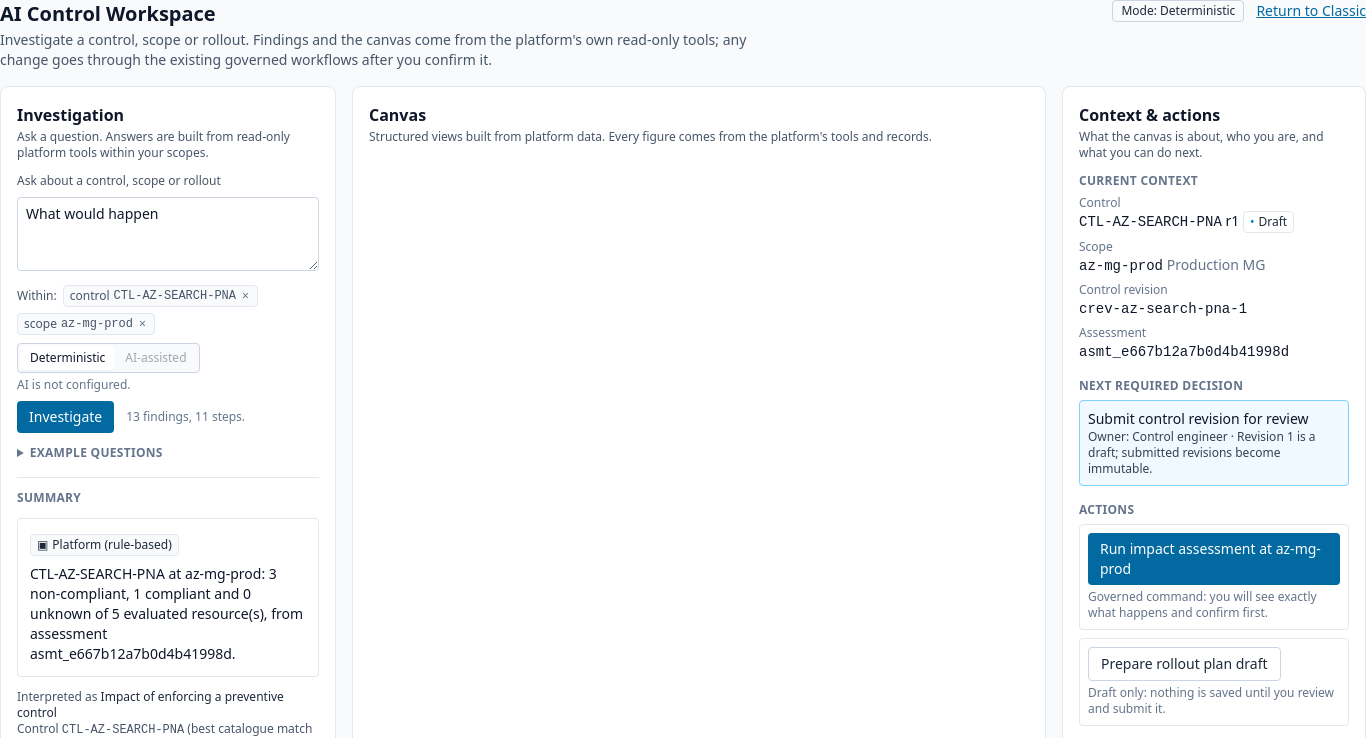
Test: workspace page › asks before running an assessment through the existing endpoint, then refreshes
Click the button with test id "ws-action-run_assessment" at (1214, 559), box [1088,533,1340,585]
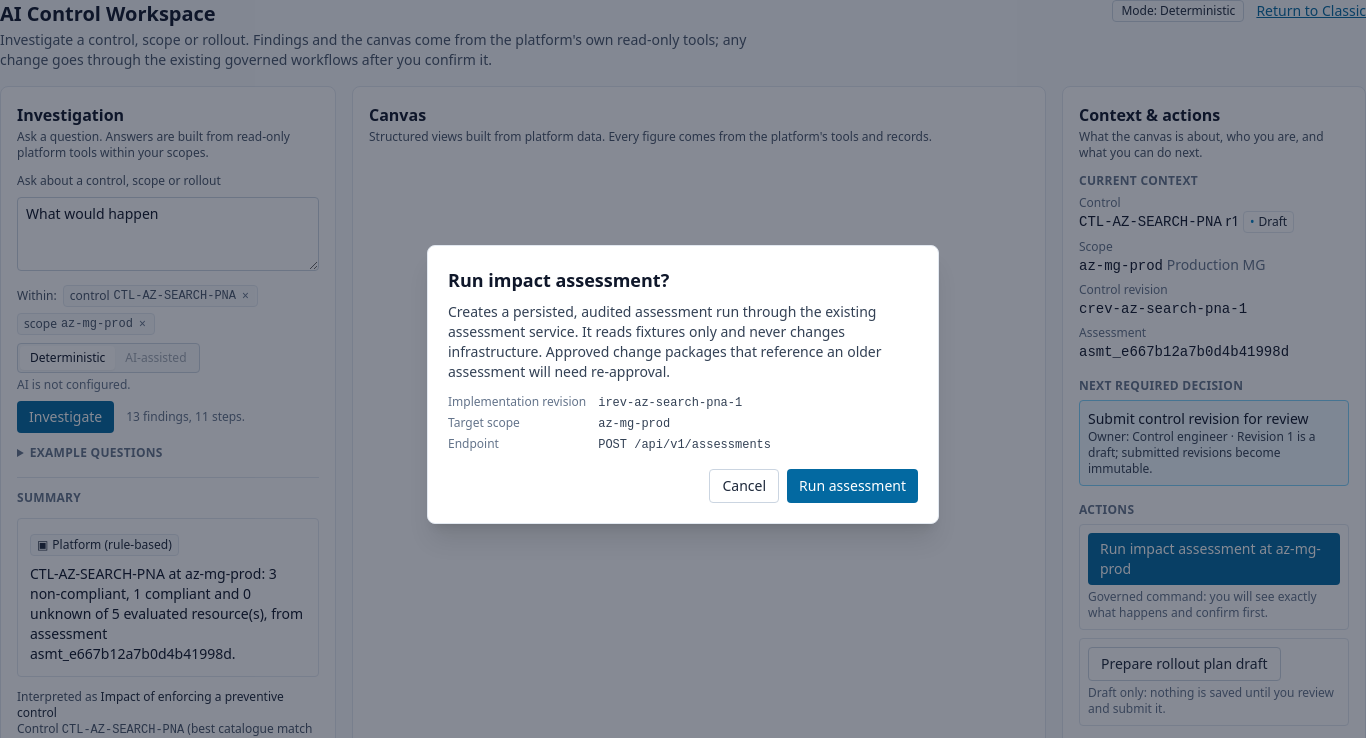
Expected: the dialog "Run impact assessment?" shows "Creates a persisted, audited assessment run", [448,302,882,380]
Expected: the text with test id "ws-confirm-irev" reads "irev-az-search-pna-1", [598,396,742,410]
Expected: the text with test id "ws-confirm-scope" reads "az-mg-prod", [598,416,670,430]
Click the button with test id "ws-cancel" at (744, 486), box [710,468,779,502]
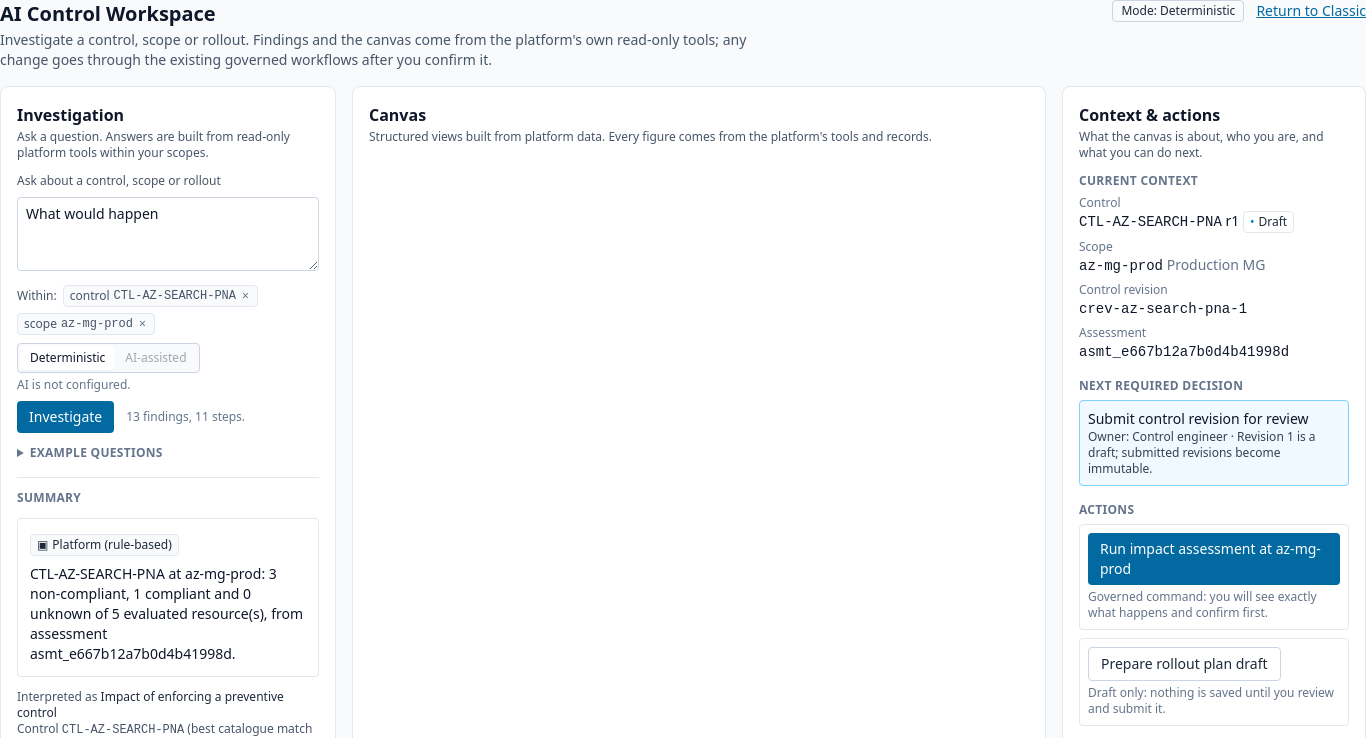
Expected: the dialog is gone
Click the button with test id "ws-action-run_assessment" at (1214, 559), box [1088,533,1340,585]
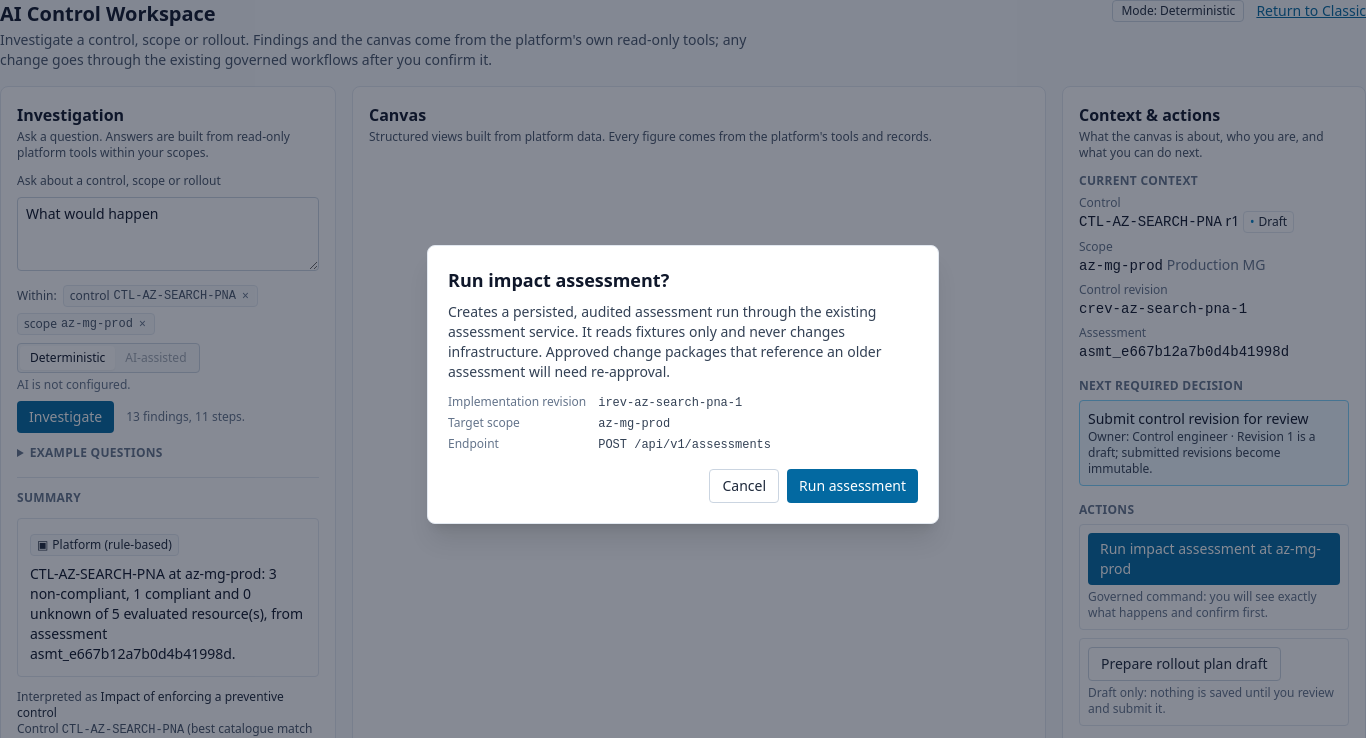
Click the button with test id "ws-confirm" at (853, 486), box [787,468,918,502]
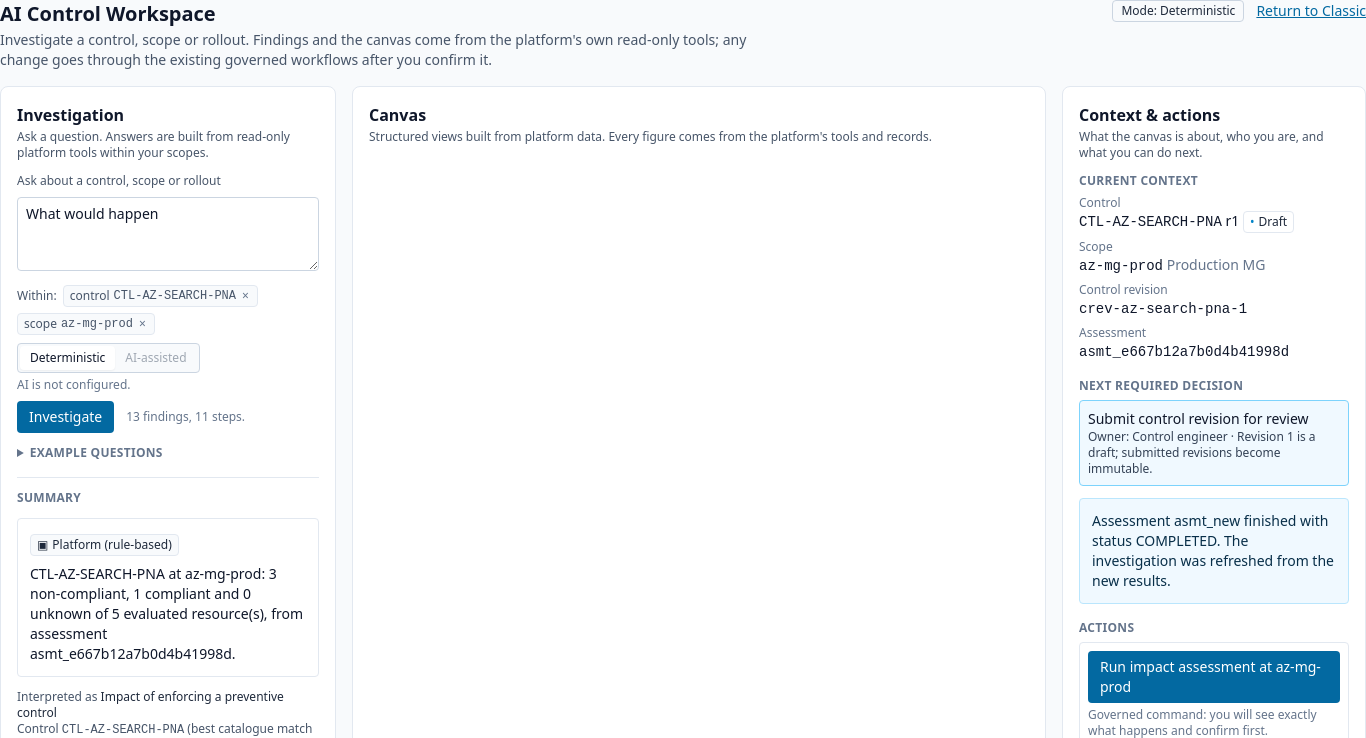
Expected: the element with test id "ws-notice" shows "asmt_new", [1092,511,1334,590]
